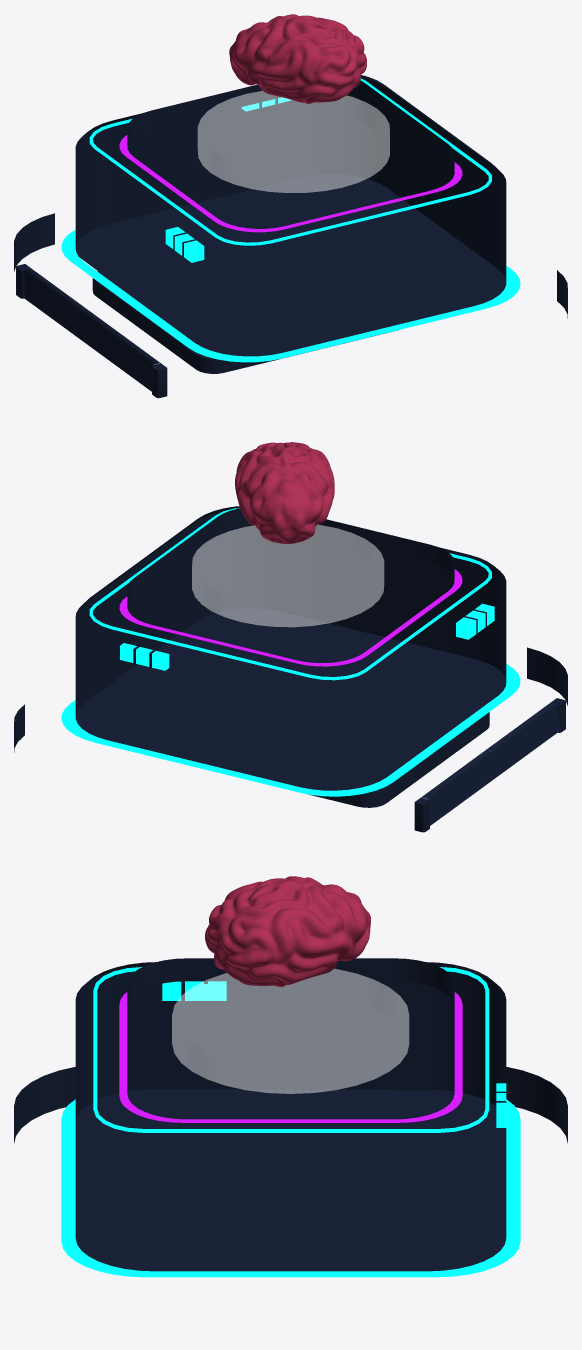
File: Fin_lab_platform3.glb
3 renders of one model, top to bottom at view 1: azimuth 30°, elevation 25°; view 2: azimuth 150°, elevation 25°; view 3: azimuth 270°, elevation 25°, orthographic. The views are drawn at different scales.
Parts seen in each view (by area): view 1: Cube.003, Plane.005, Artificial_Intellegence, Cube.004, Cube, Gate, Sub_platform, Plane.003; view 2: Cube.003, Plane.005, Artificial_Intellegence, Cube.004, Cube, Gate, Sub_platform, Plane.003; view 3: Cube.003, Plane.005, Artificial_Intellegence, Cube, Cube.004, Plane.003.
Boxes of the visible parts, box(x1,y1,x2,y2) form: Cube.003: box(75, 75, 506, 356); Plane.005: box(198, 91, 389, 192); Artificial_Intellegence: box(229, 14, 366, 103); Cube.004: box(119, 81, 462, 232); Cube: box(14, 213, 567, 362); Gate: box(16, 264, 167, 398); Sub_platform: box(92, 271, 398, 373); Plane.003: box(89, 78, 491, 245); Cube.003: box(75, 506, 506, 790); Plane.005: box(192, 525, 383, 626); Artificial_Intellegence: box(235, 442, 334, 543); Cube.004: box(119, 508, 462, 666); Cube: box(14, 647, 567, 796); Gate: box(414, 698, 565, 832); Sub_platform: box(308, 706, 489, 807); Plane.003: box(89, 508, 491, 680); Cube.003: box(75, 962, 506, 1271); Plane.005: box(172, 969, 408, 1093); Artificial_Intellegence: box(205, 876, 370, 986); Cube: box(14, 1067, 567, 1277); Cube.004: box(119, 958, 462, 1122); Plane.003: box(93, 967, 489, 1132).
Bounding box in the file's own units: 7.21 × 5.75 × 7.04.
